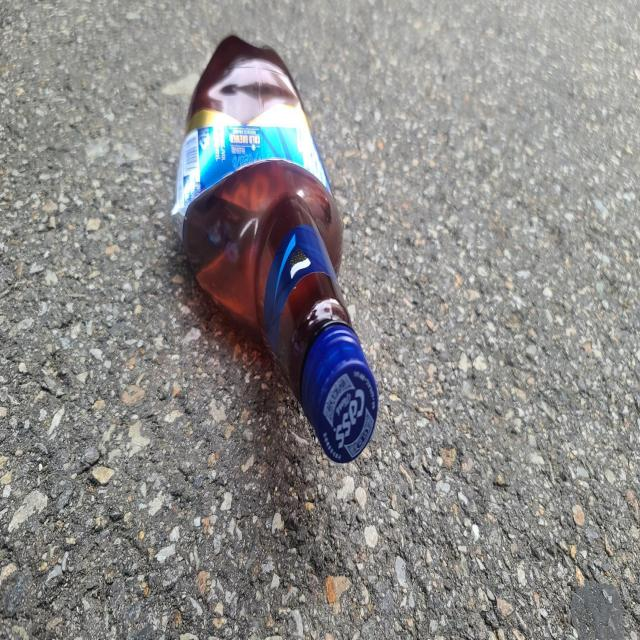plastic: (172, 34, 379, 463)
